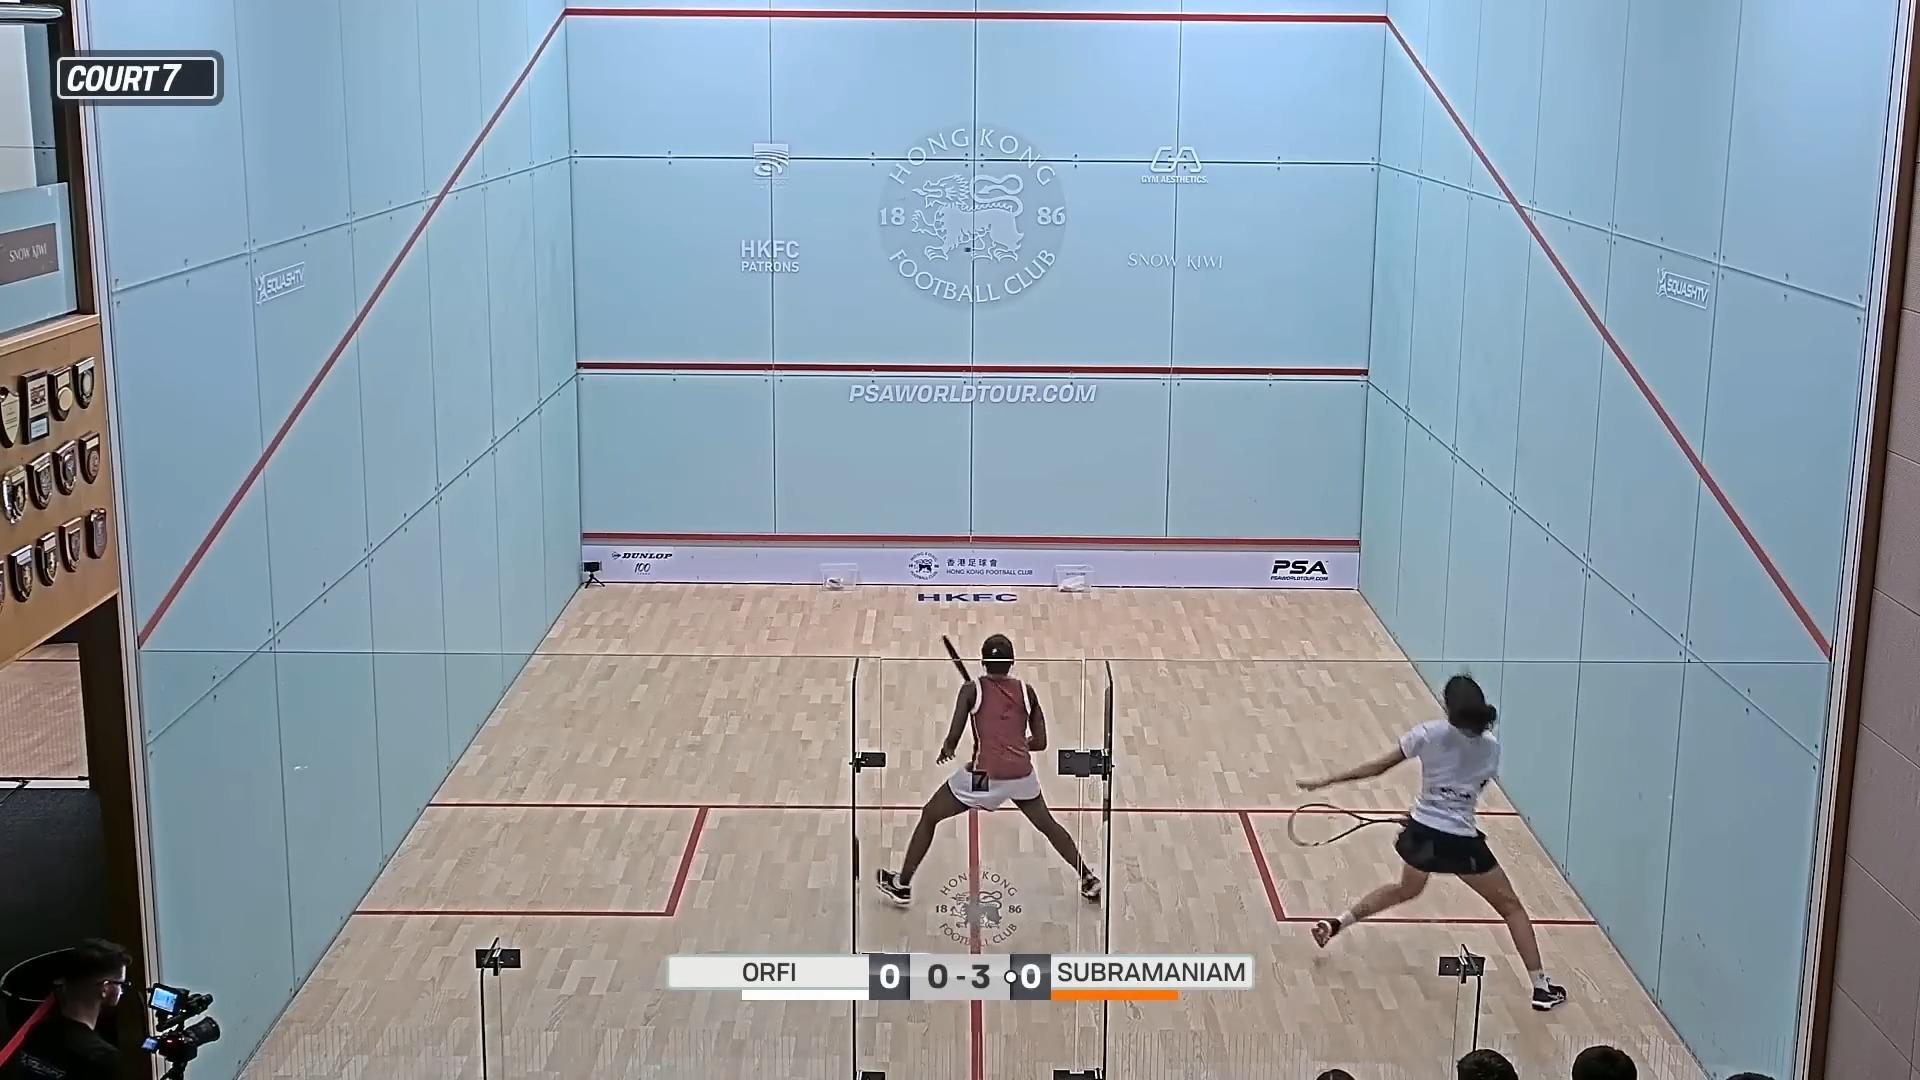Squash-Ball: (960, 240, 976, 258)
